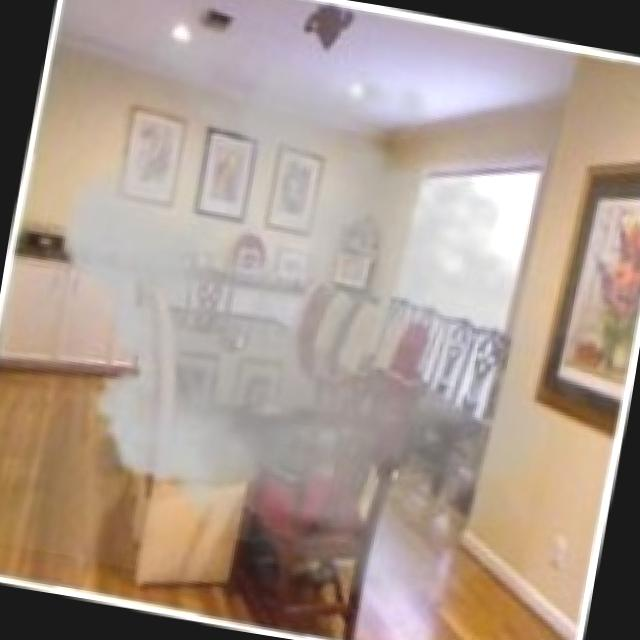smoke: (55, 145, 492, 520)
